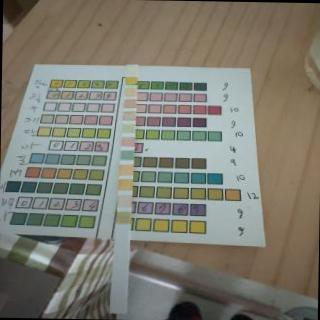mark: (116, 212, 130, 224), (120, 164, 133, 176), (118, 179, 131, 190), (118, 196, 130, 207), (120, 124, 134, 132), (122, 112, 136, 120), (121, 150, 133, 159), (122, 137, 134, 145), (124, 100, 136, 108), (126, 88, 136, 95), (126, 77, 136, 84), (125, 66, 136, 72)
